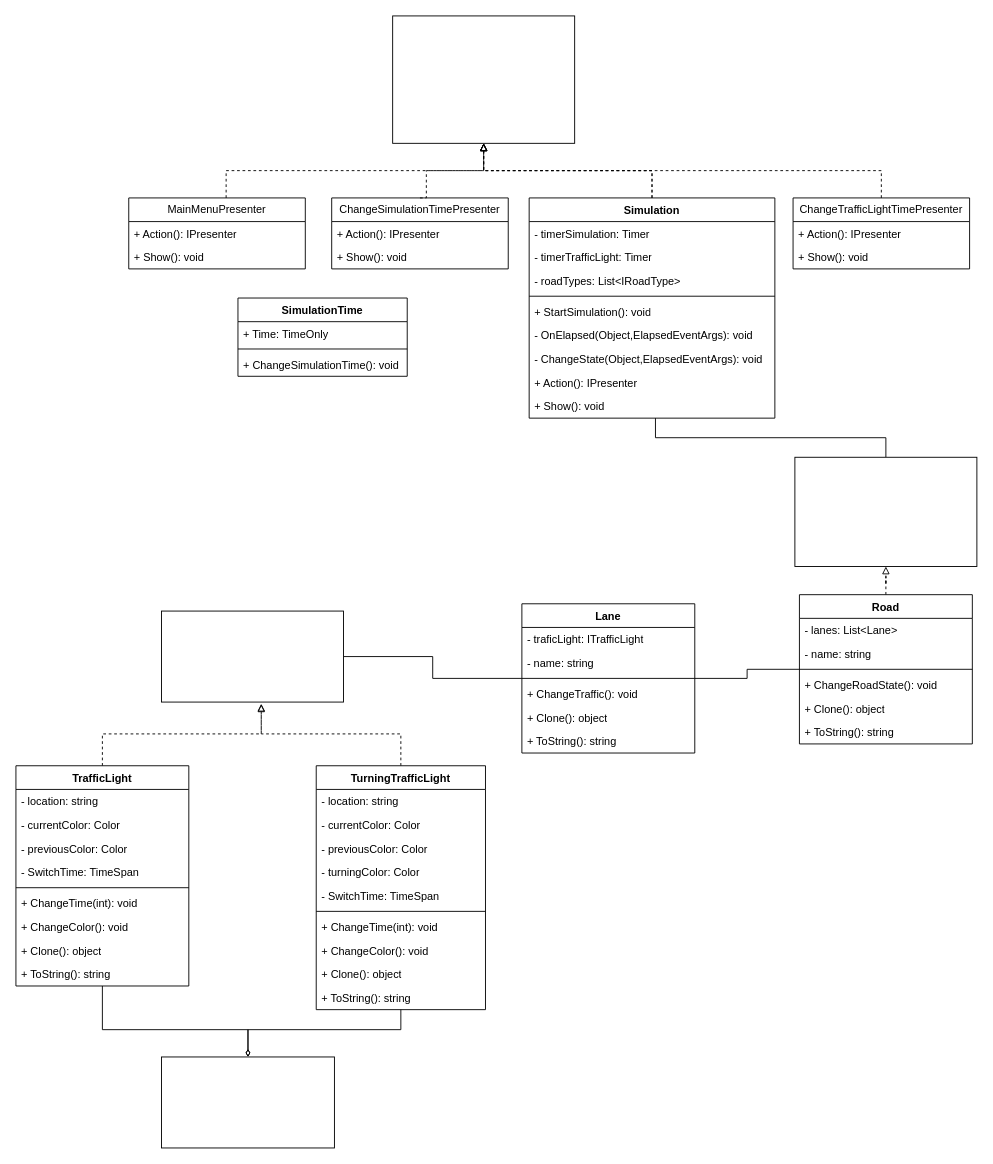
Some shapes in this 993 by 1164 pixel diagram are drawn without their labels. The centre of each missing label's shape, as x and y in pixels:
+ Time: TimeOnly <<Interface>> ITrafficLight + ChangeTrafficLightState(): void: [885,511]
<<Enumeration>> Color Red Yellow Green: [247,1102]
<<Interface>> IPresenter + Show(): void + Action(): IPresenrter: [483,79]
<<Interface>> ITrafficLight + SwitchTime: TimeSpan + ChangeColor(): void: [252,656]
